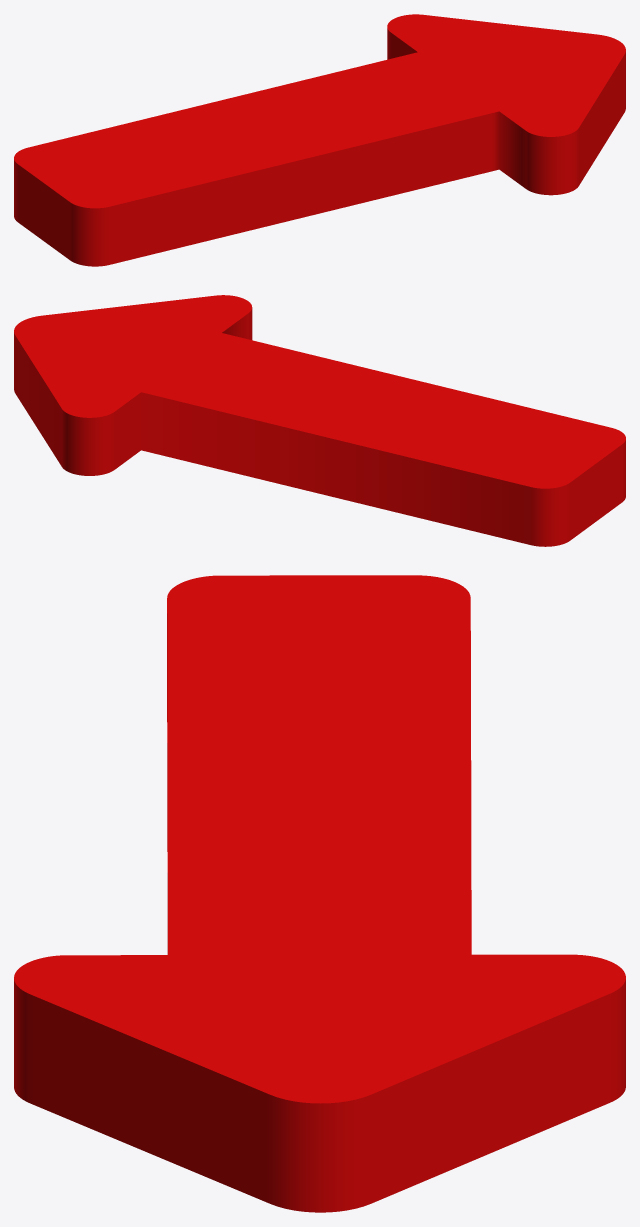
Rendered from arrow_lurus.gltf.
3 views of the same model, one above another, from view 1: azimuth 30°, elevation 25°; view 2: azimuth 150°, elevation 25°; view 3: azimuth 270°, elevation 25° (orthographic). The views are drawn at different scales.
Parts seen in each view (by area): view 1: Curve; view 2: Curve; view 3: Curve.
Part boxes in pixels (x1,y1,x2,y2): Curve: (14,14,625,266); Curve: (14,295,625,546); Curve: (14,575,625,1212).
Bounding box in the file's own units: 1.05 × 0.101 × 0.5135.
